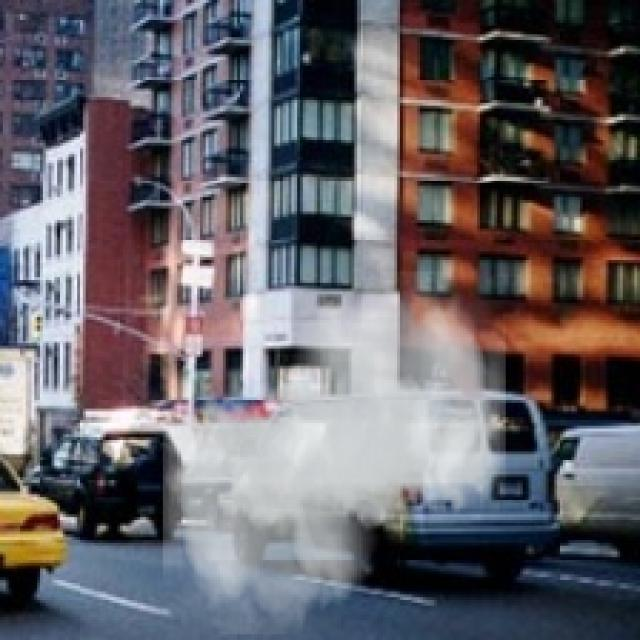smoke: (163, 272, 506, 634)
